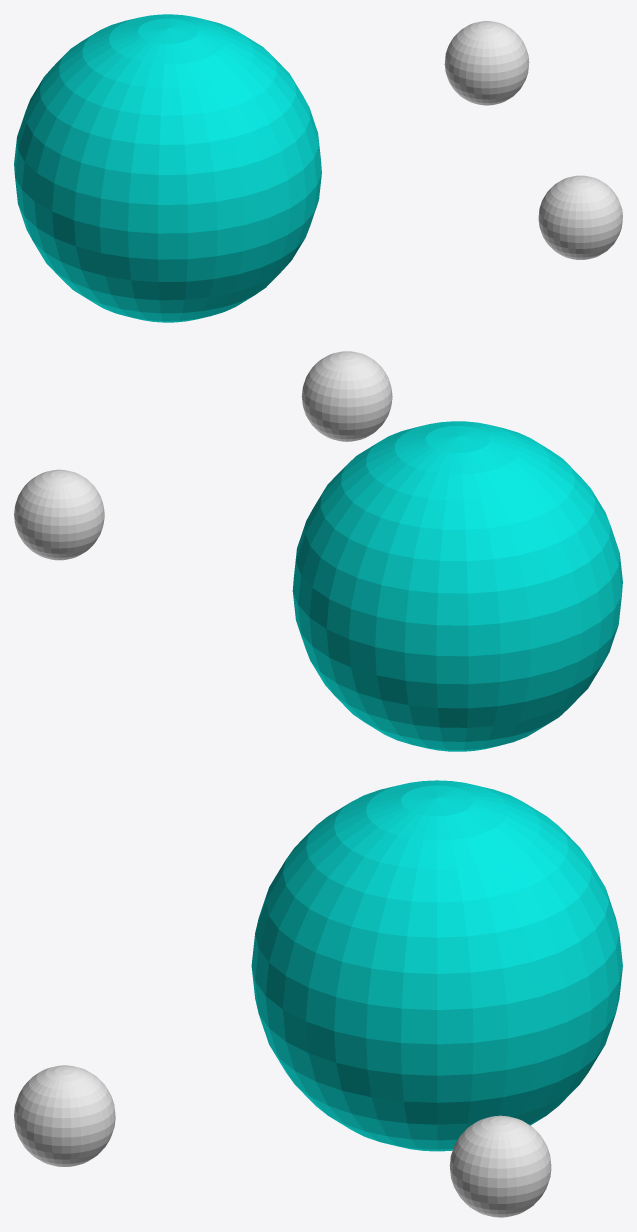
File: WaterModel.glb
3 views of the same model, one above another, from view 1: azimuth 30°, elevation 25°; view 2: azimuth 150°, elevation 25°; view 3: azimuth 270°, elevation 25° (orthographic). The views are drawn at different scales.
Visible parts, largest first — view 1: Sphere, Sphere.001, Sphere.002; view 2: Sphere, Sphere.001, Sphere.002; view 3: Sphere, Sphere.002, Sphere.001.
Boxes of the visible parts, x1,y1,x2,y2 form: Sphere: [14, 14, 321, 322]; Sphere.001: [444, 21, 529, 105]; Sphere.002: [538, 175, 622, 259]; Sphere: [292, 421, 622, 751]; Sphere.001: [14, 469, 104, 560]; Sphere.002: [301, 351, 392, 441]; Sphere: [251, 780, 622, 1151]; Sphere.002: [14, 1065, 115, 1166]; Sphere.001: [449, 1115, 551, 1217].
Bounding box in the file's own units: 3.86 × 2 × 3.28.
